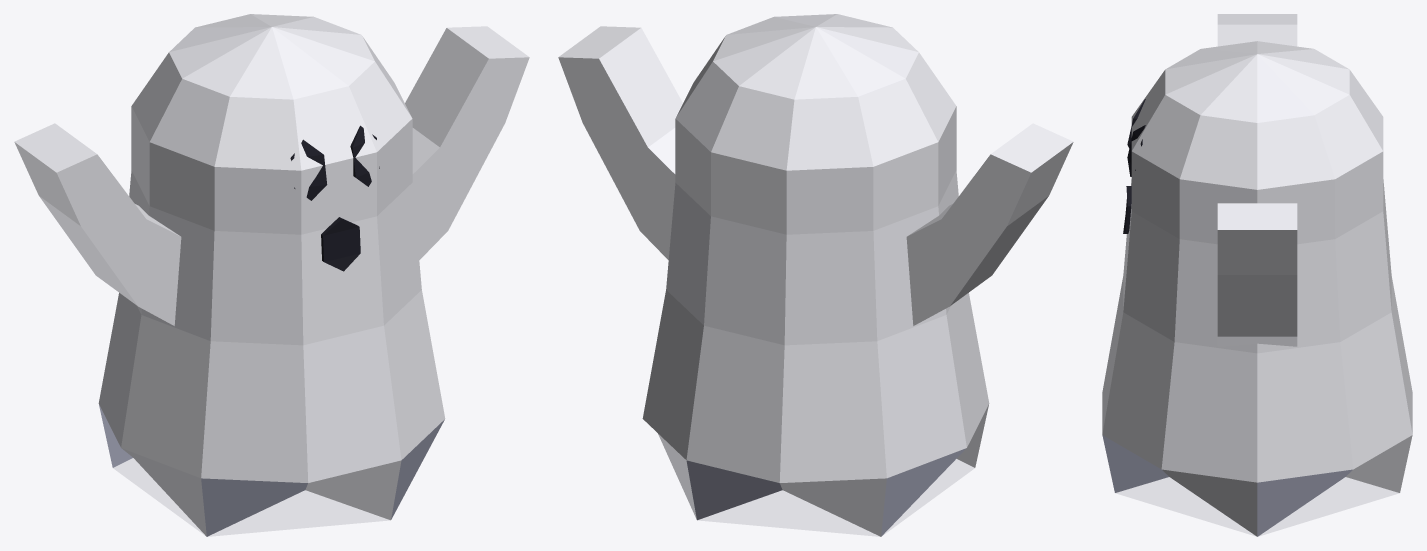
The model's file is ghost-2x2.glb.
3 views of the same model, side by side, from view 1: azimuth 30°, elevation 25°; view 2: azimuth 150°, elevation 25°; view 3: azimuth 270°, elevation 25° (orthographic). The views are drawn at different scales.
Parts seen in each view (by area): view 1: ghost-2x2; view 2: ghost-2x2; view 3: ghost-2x2.
Boxes of the visible parts, bbox=[...] form: ghost-2x2: bbox=[14, 14, 529, 536]; ghost-2x2: bbox=[558, 14, 1073, 536]; ghost-2x2: bbox=[1102, 14, 1412, 536].
Size of the model in its own units: 1.8 by 1.63 by 1.09.
1 material, 1 textured.
